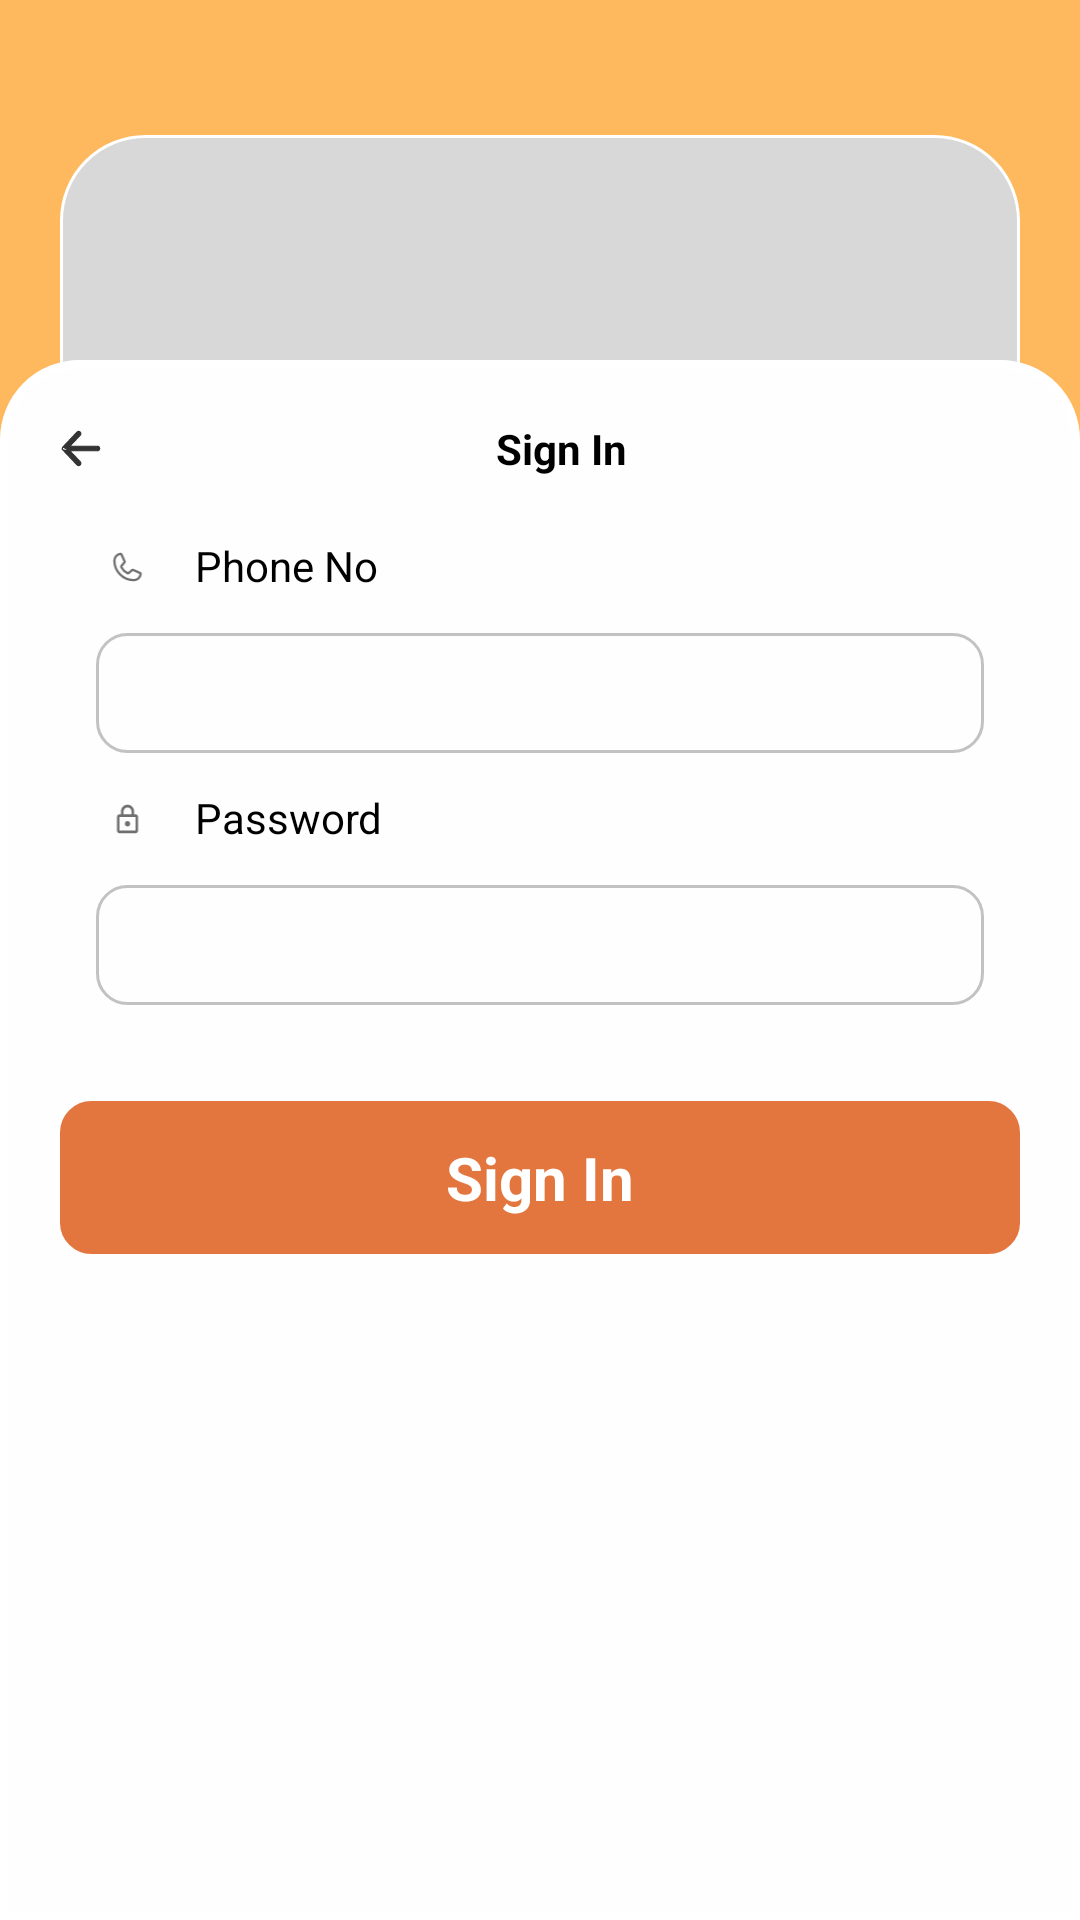

Icons on this 1080*1920 Android screen, each with the point to tap as (x,y):
back: (81,448)
call: (127,567)
lock: (127,819)
